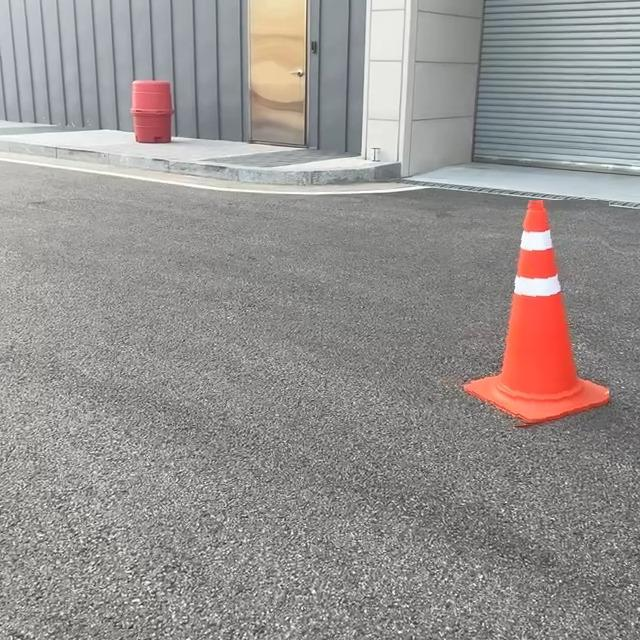fallen_object: (409, 167, 640, 465)
